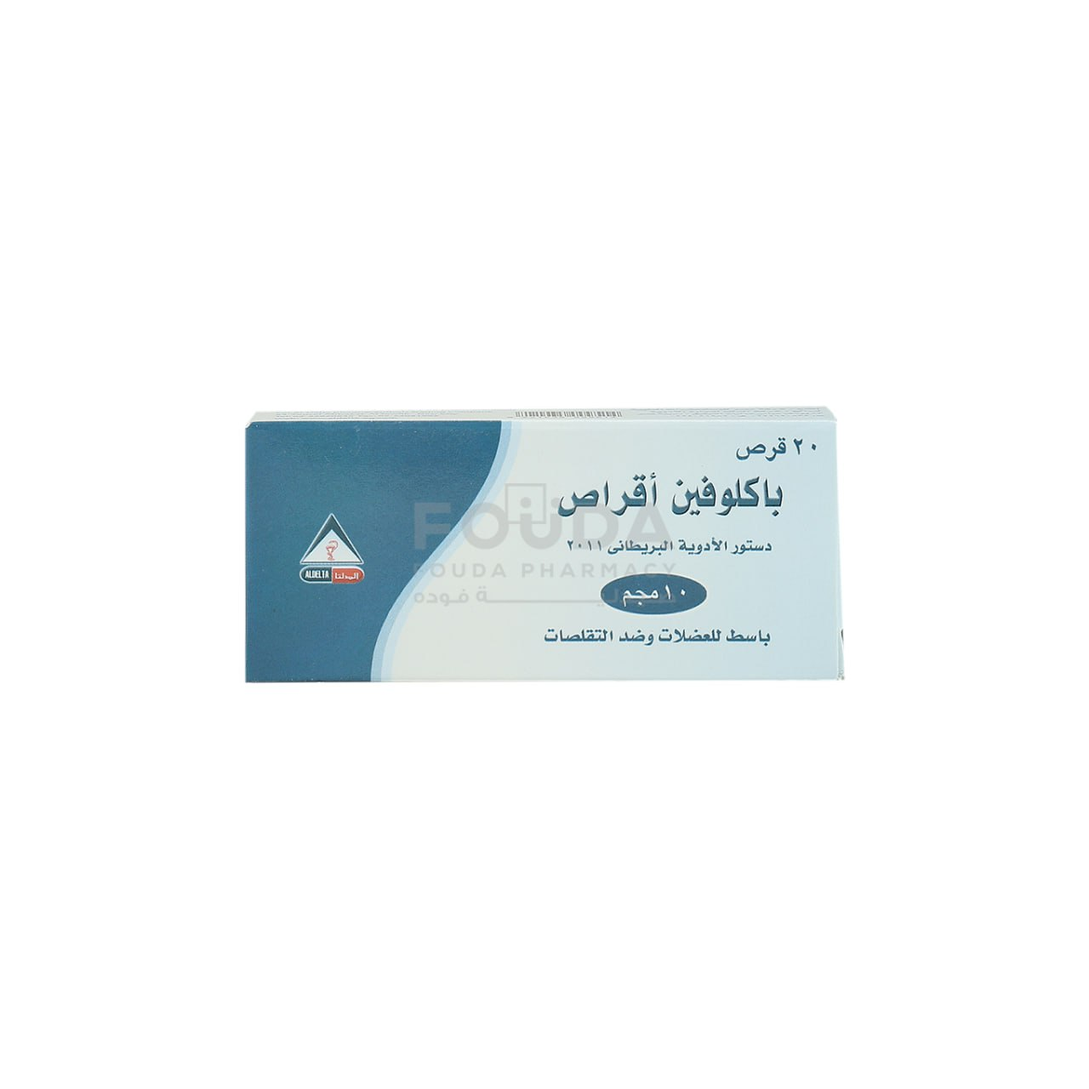Medicine: (227, 397, 851, 689)
